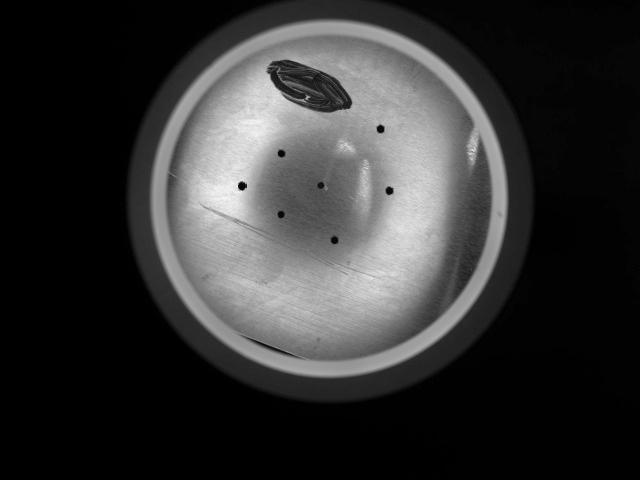ca_shang: (178, 193, 390, 298)
zang_wu: (263, 48, 363, 129)
zhen_kong: (307, 172, 334, 199), (231, 173, 256, 201), (268, 142, 293, 169), (269, 204, 294, 229), (369, 117, 392, 142), (324, 229, 344, 253), (381, 182, 402, 200)
